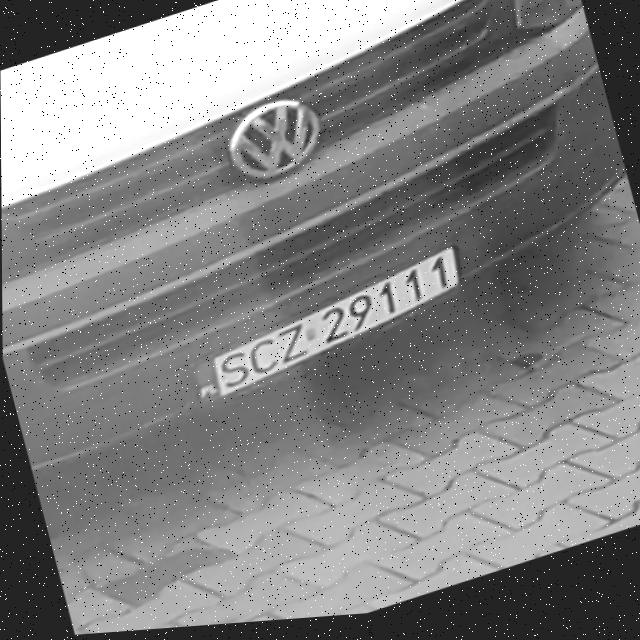license-plates: (193, 249, 458, 399)
